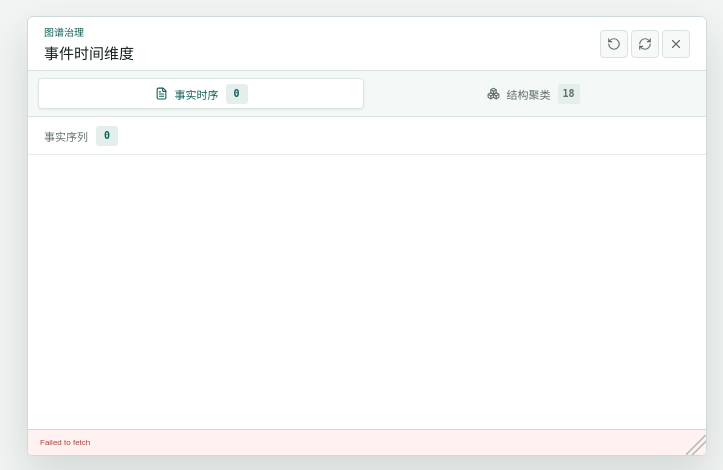
Test case: 管理端 › 治理数据刷新成功后清除之前的网络错误
Expected: the message reads "Failed to fetch", [40,438,90,447]
Click the button named "刷新治理数据".
click(645, 44)  # box [631,30,659,58]
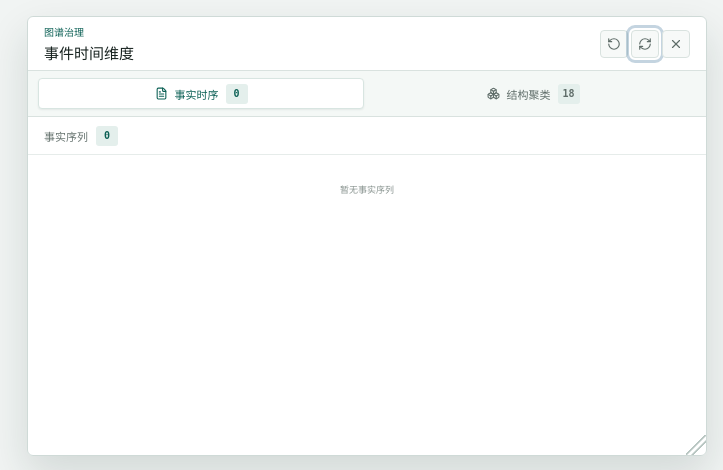
Now the message "Failed to fetch" is gone
